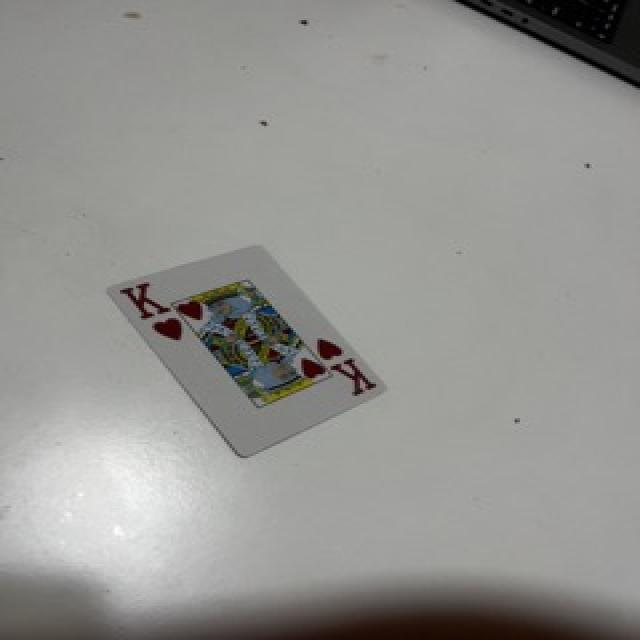King of hearts: (108, 245, 383, 461)
